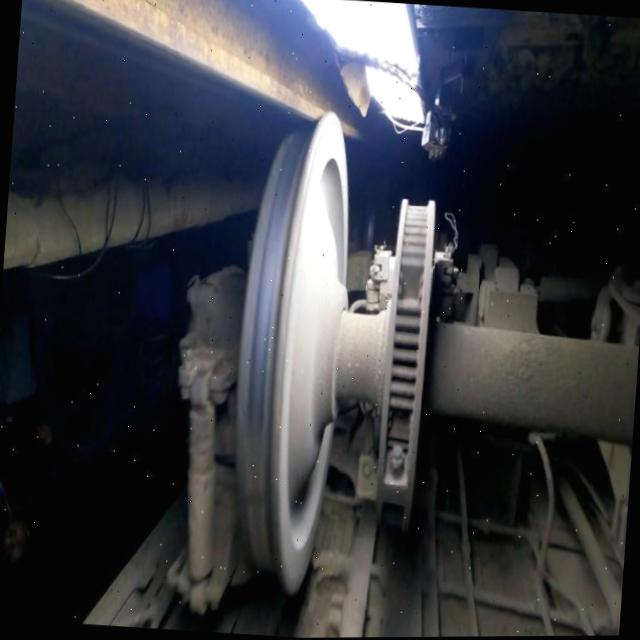Discoloration: (243, 299, 272, 425)
Shelling: (242, 424, 271, 568)
Wheel: (235, 111, 348, 591)
